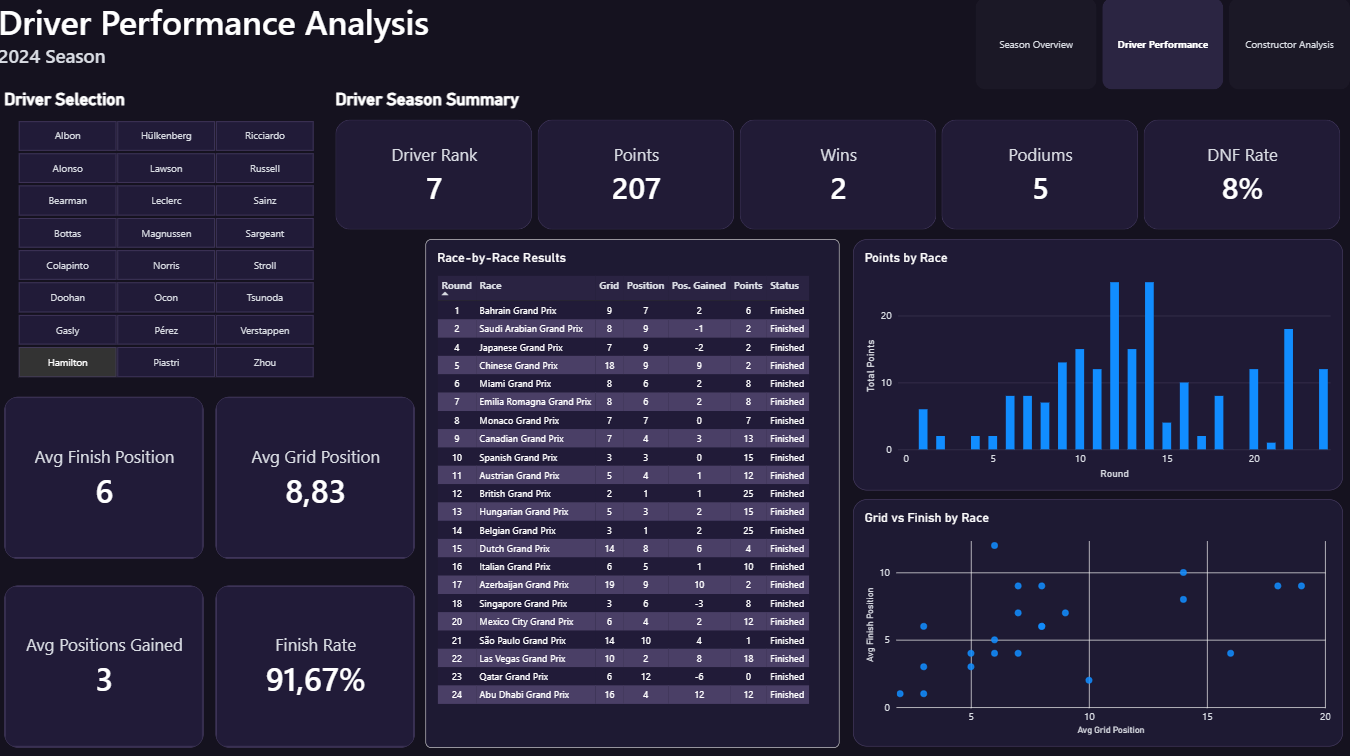

This screenshot's page, from the dashboard's own definition file:
{"tool":"powerbi","page":{"name":"Driver Performance","canvas":[1920,1080],"ordinal":1},"visuals":[{"type":"pageNavigator","box":[1388,0,532,130],"z":0},{"type":"textbox","box":[0,0,1388,130],"z":1000},{"type":"slicer","title":"Driver Selection","fields":{"Values":["DimDriver.familyName"]},"box":[9.2,128.8,458.3,410.4],"z":2000},{"type":"cardVisual","title":"Driver Season Summary","fields":{"Data":["_Measures.Driver Rank","_Measures.Total Points","_Measures.Wins","_Measures.Podiums","_Measures.DNF Rate"]},"box":[480.2,129.6,1429.6,200],"z":3000},{"type":"scatterChart","title":"Grid vs Finish by Race","fields":{"Category":["DimRace.raceName"],"X":["_Measures.Avg Grid Position"],"Y":["_Measures.Avg Finish Position"]},"box":[1214.7,712.3,695.7,351.5],"z":4000},{"type":"columnChart","title":"Points by Race","fields":{"Category":["DimRace.round"],"Y":["_Measures.Total Points"]},"box":[1214.7,342.3,695.7,357.1],"z":5000},{"type":"tableEx","title":"Race-by-Race Results","fields":{"Values":["FactRaceResults.round","DimRace.raceName","FactRaceResults.grid","FactRaceResults.position","_Measures.Positions Gained","FactRaceResults.points","FactRaceResults.status"]},"box":[607.4,342,587.7,722.2],"z":6000},{"type":"cardVisual","fields":{"Data":["_Measures.Avg Grid Position"]},"box":[309.2,566.9,283.4,230.1],"z":7000},{"type":"cardVisual","fields":{"Data":["_Measures.Avg Finish Position"]},"box":[9.2,566.9,283.4,230.1],"z":8000},{"type":"cardVisual","fields":{"Data":["_Measures.Avg Positions Gained"]},"box":[9.2,833.7,283.4,230.1],"z":9000},{"type":"cardVisual","fields":{"Data":["_Measures.Finish Rate"]},"box":[309.2,833.7,283.4,230.1],"z":10000}]}

Visuals, with their boxes in screenshot pixels (x1, y1, x2, y2), scaled from the page's 1920x1080 canvas onto the 1350x756 screenshot:
pageNavigator: rect(976, 0, 1349, 91)
textbox: rect(0, 0, 976, 91)
"Driver Selection" slicer: rect(6, 90, 329, 377)
"Driver Season Summary" cardVisual: rect(338, 91, 1343, 231)
"Grid vs Finish by Race" scatterChart: rect(854, 499, 1343, 745)
"Points by Race" columnChart: rect(854, 240, 1343, 490)
"Race-by-Race Results" tableEx: rect(427, 239, 840, 745)
cardVisual - _Measures.Avg Grid Position: rect(217, 397, 417, 558)
cardVisual - _Measures.Avg Finish Position: rect(6, 397, 206, 558)
cardVisual - _Measures.Avg Positions Gained: rect(6, 584, 206, 745)
cardVisual - _Measures.Finish Rate: rect(217, 584, 417, 745)
